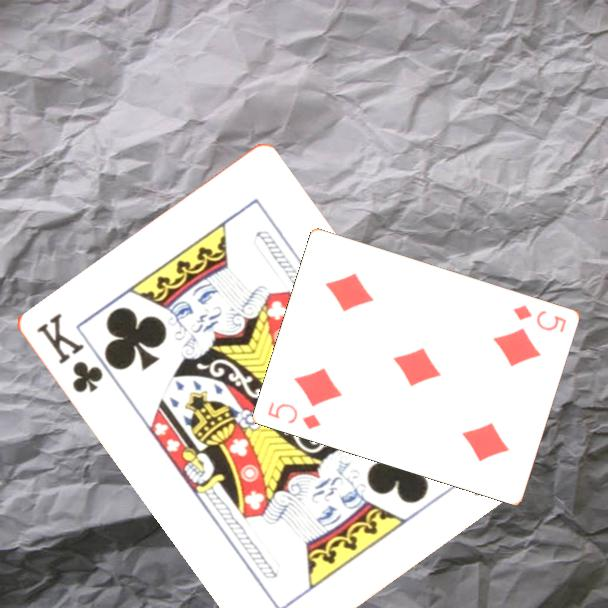c13: (32, 309, 106, 396)
d05: (510, 301, 570, 335), (264, 398, 324, 432)
